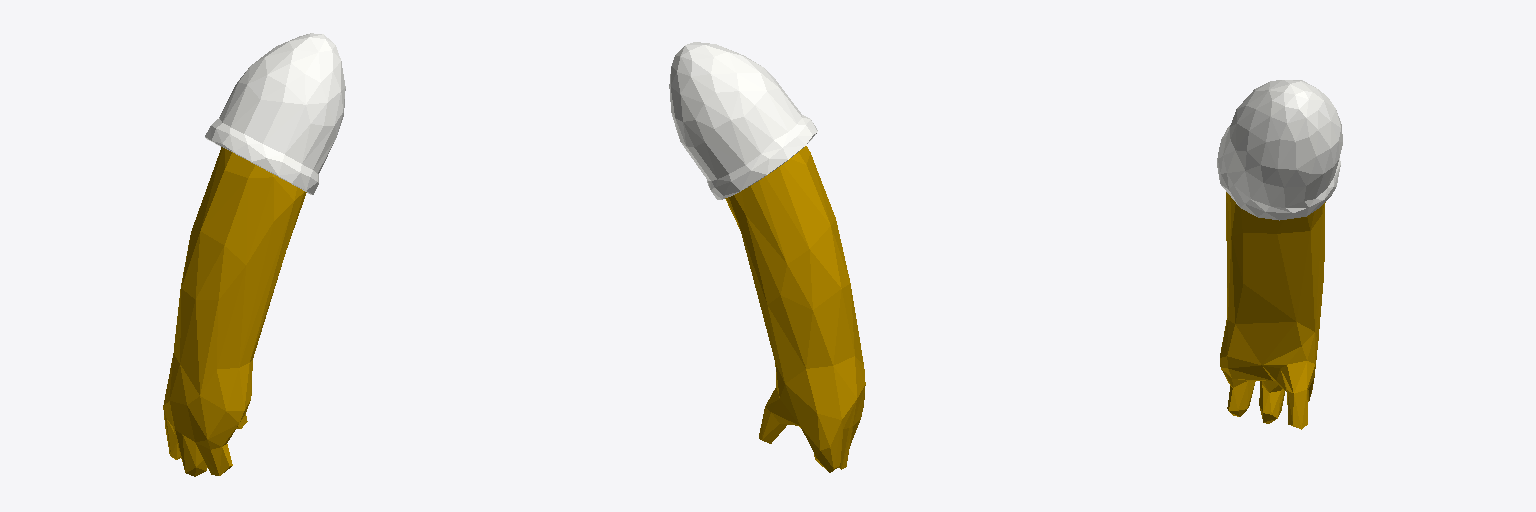
The model's file is brazoIzq.obj.
The picture shows the model from 3 angles: view 1: azimuth 30°, elevation 25°; view 2: azimuth 150°, elevation 25°; view 3: azimuth 270°, elevation 25°; orthographic projection.
Visible parts, largest first — view 1: Brazo_Izq_Homer_Sphere.007; view 2: Brazo_Izq_Homer_Sphere.007; view 3: Brazo_Izq_Homer_Sphere.007.
Part boxes in pixels (left/top/right/bottom): Brazo_Izq_Homer_Sphere.007: left=163, top=33, right=345, bottom=476; Brazo_Izq_Homer_Sphere.007: left=669, top=42, right=865, bottom=472; Brazo_Izq_Homer_Sphere.007: left=1217, top=80, right=1342, bottom=429.
Size of the model in its own units: 0.7335 by 1.6 by 0.4577.